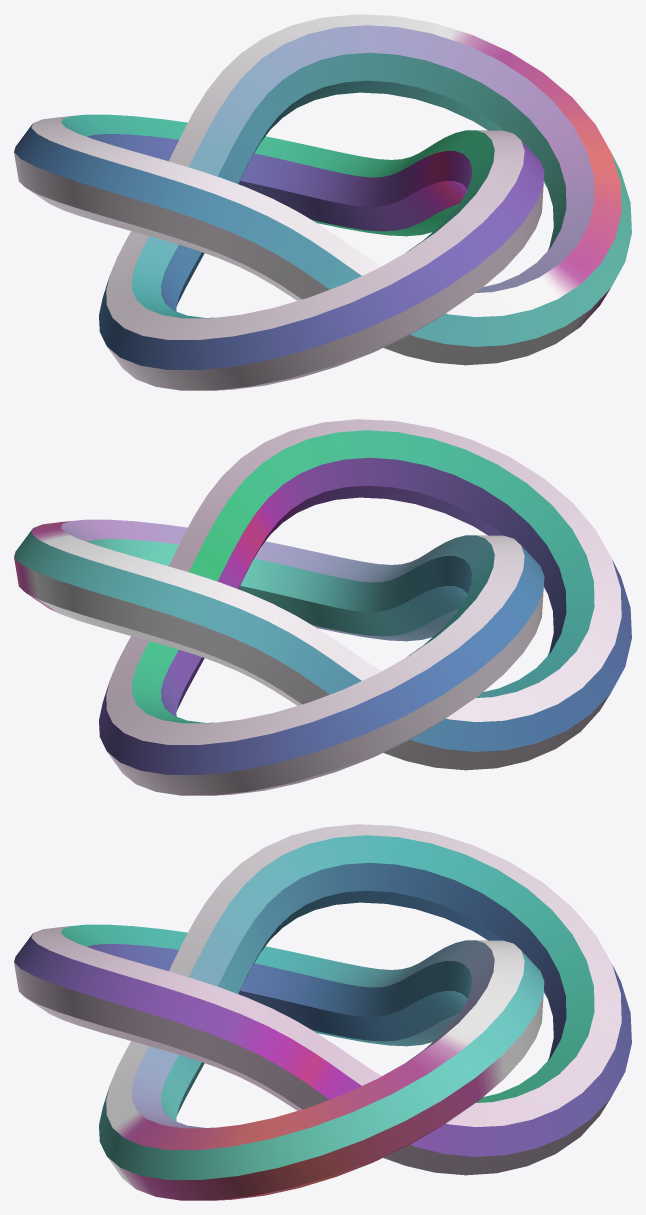
File: alienShip6.fbx
3 views of the same model, one above another, from view 1: azimuth 30°, elevation 25°; view 2: azimuth 150°, elevation 25°; view 3: azimuth 270°, elevation 25° (orthographic).
Visible parts, largest first — view 1: Torus Knot 2 x 3.002; view 2: Torus Knot 2 x 3.002; view 3: Torus Knot 2 x 3.002.
Part boxes in pixels (left/top/right/bottom): Torus Knot 2 x 3.002: left=14, top=14, right=631, bottom=390; Torus Knot 2 x 3.002: left=14, top=419, right=631, bottom=795; Torus Knot 2 x 3.002: left=14, top=824, right=631, bottom=1200.
Size of the model in its own units: 698 by 255 by 725.
Materials: 1 (1 with a texture image).
